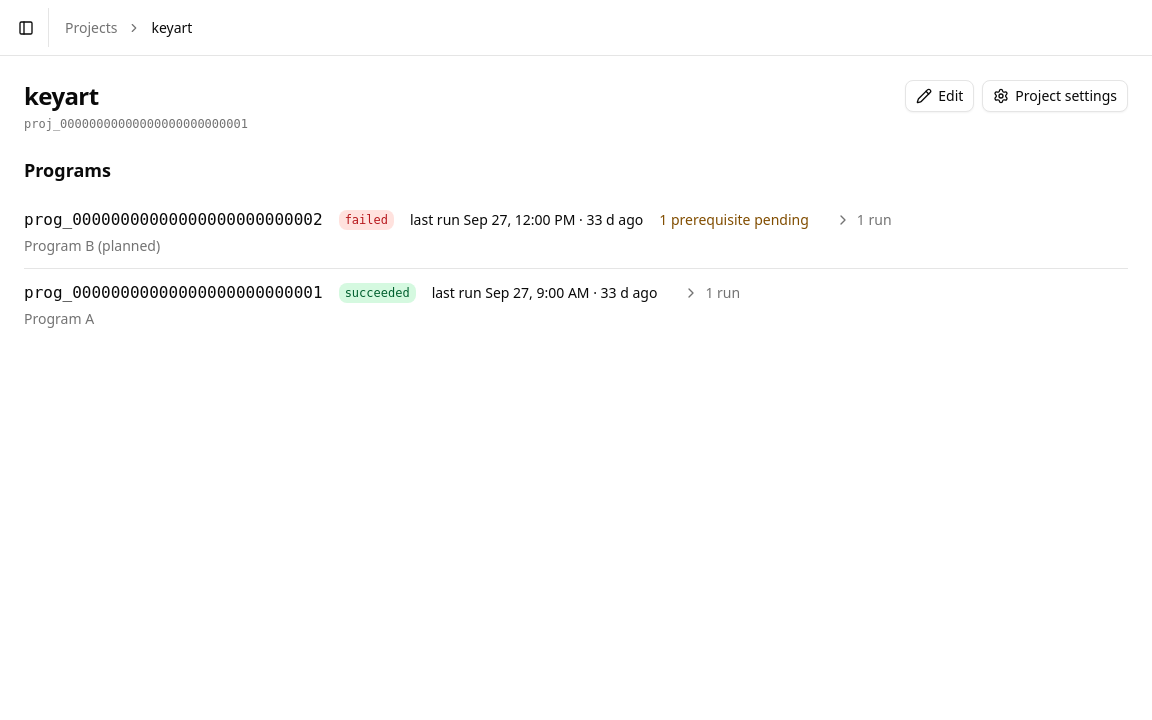
the project page › lists programs with their plan state and every run across them, latest first
This screenshot has width=1152, height=720.
Expected: the heading "keyart" is shown, [24,79,98,112]
Expected: the number of list items with test id "program-row" is 2, [24,196,1128,269]; [24,281,750,328]
Click the button "1 run" next to "pending" at (863, 220), box [825,208,902,232]
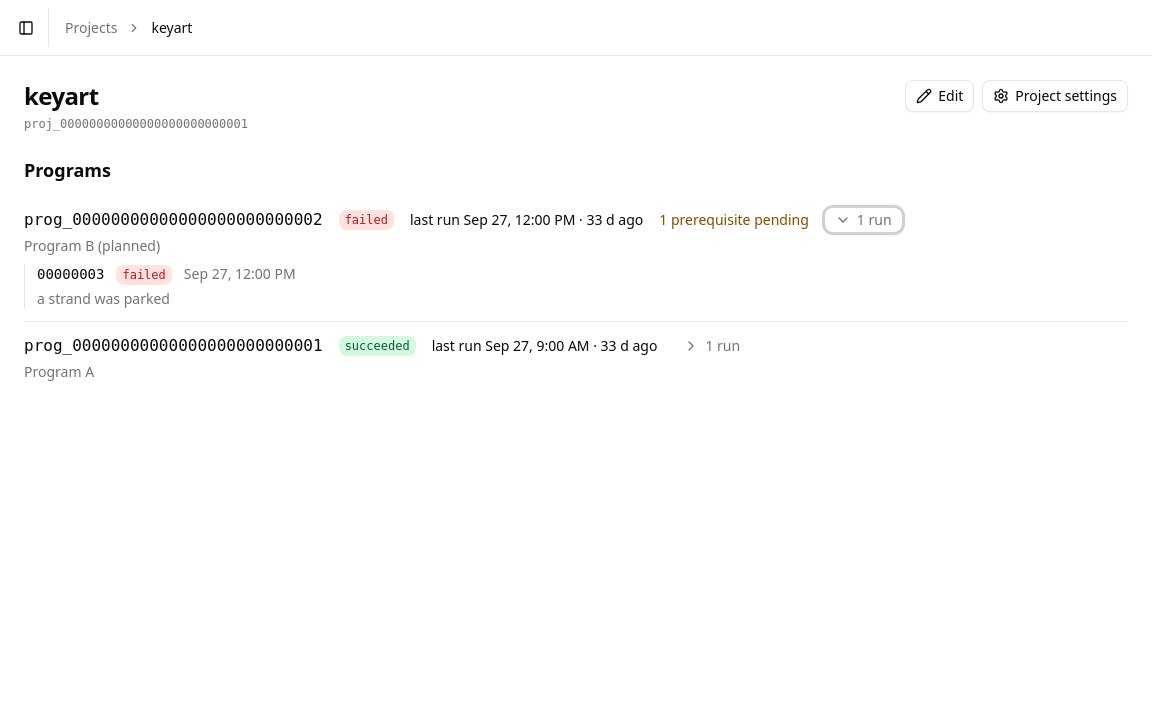
Expected: the list named "Runs" shows "a strand was parked", [37,289,170,308]
Click the button "1 run" next to "Sep 27, 9:00 AM · 33 d ago" at (712, 346), box [673,334,750,358]
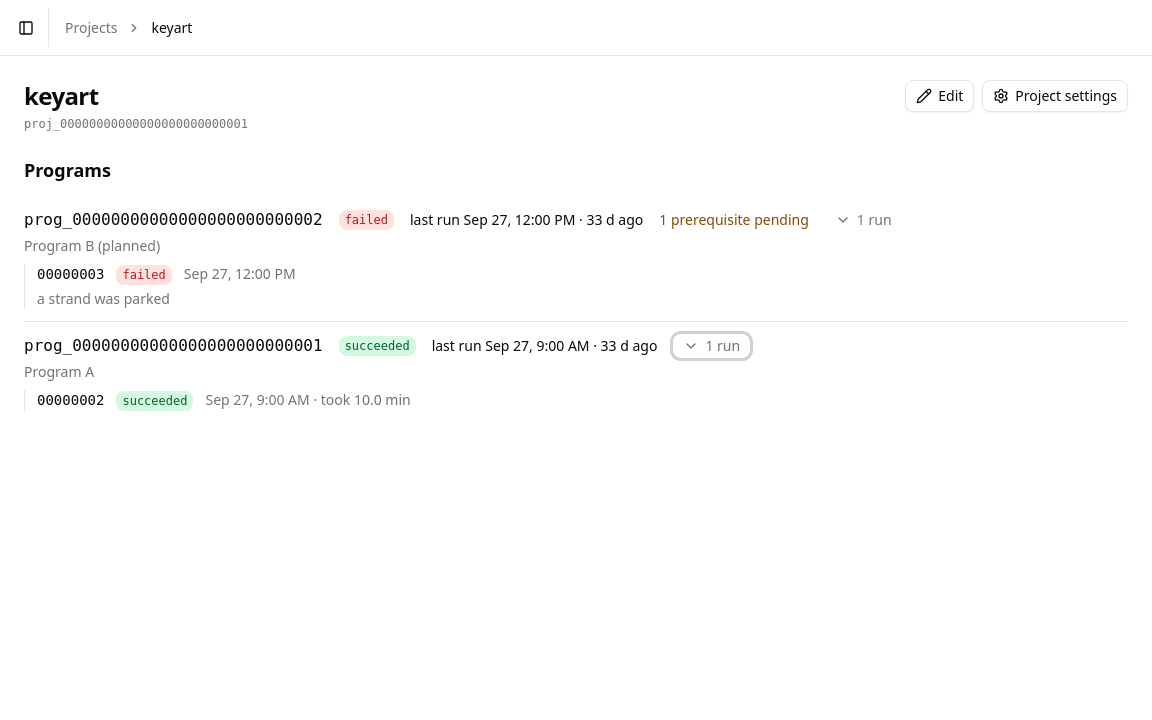
Expected: the list named "Runs" shows "took 10.0 min", [310,390,411,409]
// Editing the name writes the project back.
Click the button "Edit" at (940, 96), box [905,80,974,112]
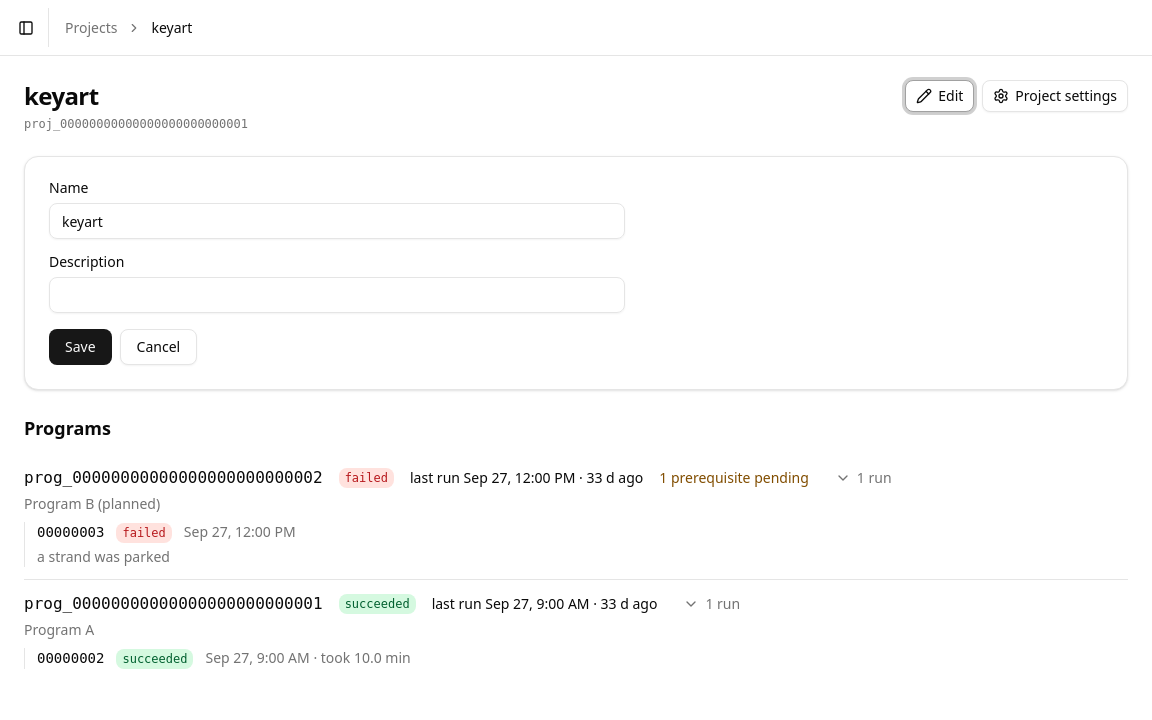
Replace the text in the field labelled "Name" with "keyart (renamed)" at (337, 221), box [49,203,625,239]
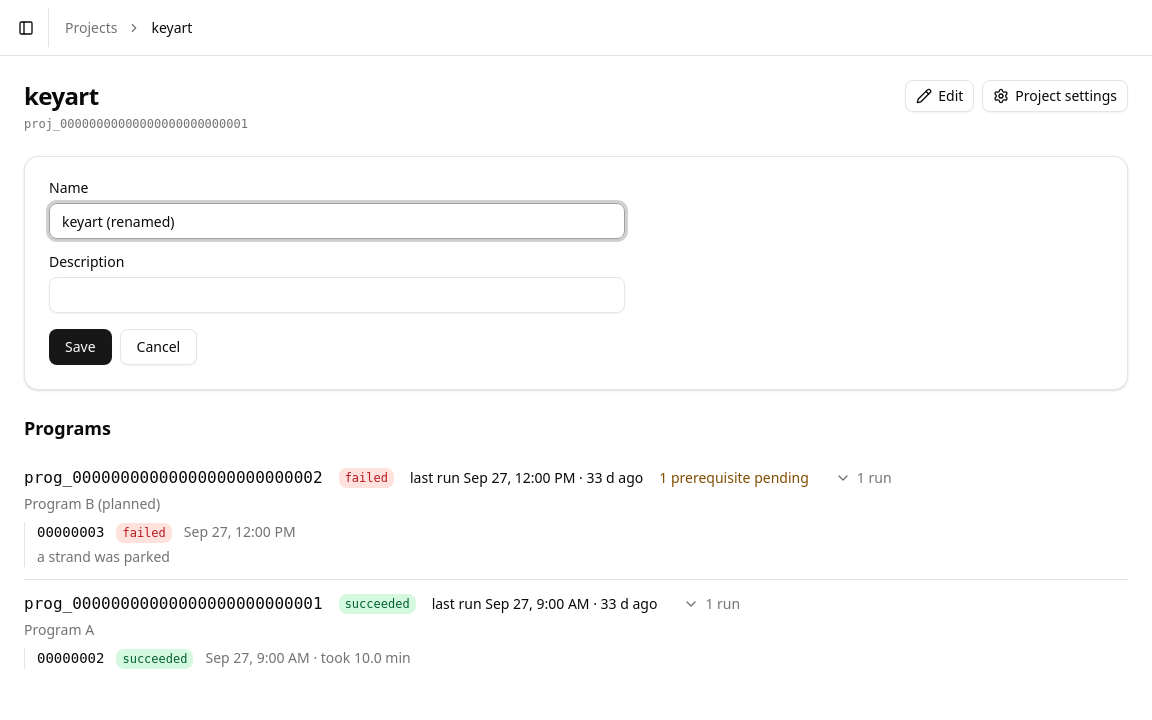
Click the button "Save" at (80, 347), box [49,329,112,365]
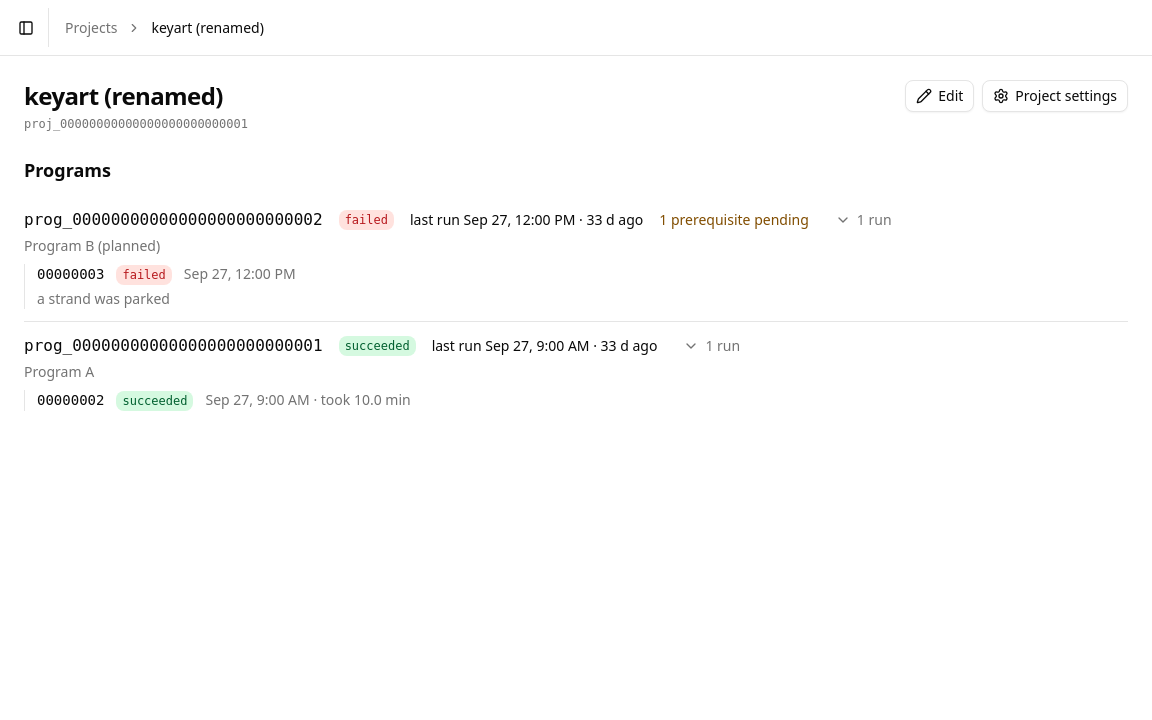
Expected: the heading "keyart (renamed)" is shown, [24,80,248,112]
Expected: the link "keyart (renamed)" is shown, [151,18,264,38]
